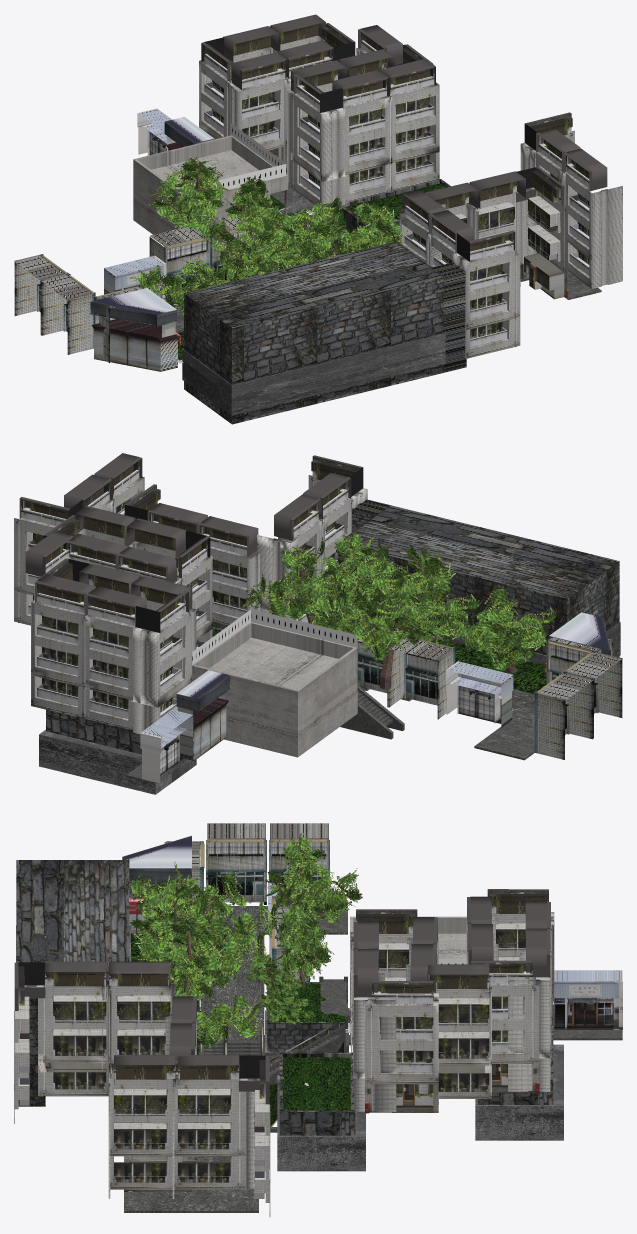
The model's file is background_ctrlJ.fbx.
3 views of the same model, one above another, from view 1: azimuth 30°, elevation 25°; view 2: azimuth 150°, elevation 25°; view 3: azimuth 270°, elevation 25° (orthographic). The views are drawn at different scales.
Visible parts, largest first — view 1: object 75, c83d86f3dd59d547cc310ce502d8f9ac.004_c83d86f3dd59d547cc310ce, c83d86f3dd59d547cc310ce502d8f9ac.005_c83d86f3dd59d547cc310ce, c83d86f3dd59d547cc310ce502d8f9ac.002_c83d86f3dd59d547cc310ce, object 122, c83d86f3dd59d547cc310ce502d8f9ac.001_c83d86f3dd59d547cc310ce, c83d86f3dd59d547cc310ce502d8f9ac.003_c83d86f3dd59d547cc310ce, object 79, object 54, 3-Photoroom.001_3-Photoroom_0, object 131, object 7 (+15 smaller); view 2: c83d86f3dd59d547cc310ce502d8f9ac.005_c83d86f3dd59d547cc310ce, object 75, object 54, object 122, c83d86f3dd59d547cc310ce502d8f9ac.004_c83d86f3dd59d547cc310ce, c83d86f3dd59d547cc310ce502d8f9ac.002_c83d86f3dd59d547cc310ce, c83d86f3dd59d547cc310ce502d8f9ac.001_c83d86f3dd59d547cc310ce, c83d86f3dd59d547cc310ce502d8f9ac.003_c83d86f3dd59d547cc310ce, object 82, object 131, object 5, 3-Photoroom.003_3-Photoroom_0 (+22 smaller); view 3: c83d86f3dd59d547cc310ce502d8f9ac.003_c83d86f3dd59d547cc310ce, c83d86f3dd59d547cc310ce502d8f9ac.002_c83d86f3dd59d547cc310ce, c83d86f3dd59d547cc310ce502d8f9ac.004_c83d86f3dd59d547cc310ce, c83d86f3dd59d547cc310ce502d8f9ac.005_c83d86f3dd59d547cc310ce, object 122, object 75, c83d86f3dd59d547cc310ce502d8f9ac.006_c83d86f3dd59d547cc310ce, object 29, object 131, 22 (1).002_22 (1)_0, object 82, object 28 (+18 smaller).
Part boxes in pixels (x1,y1,x2,y2): object 75: [184, 241, 466, 424]; c83d86f3dd59d547cc310ce502d8f9ac.004_c83d86f3dd59d547cc310ce: [287, 44, 439, 205]; c83d86f3dd59d547cc310ce502d8f9ac.005_c83d86f3dd59d547cc310ce: [199, 14, 355, 170]; c83d86f3dd59d547cc310ce502d8f9ac.002_c83d86f3dd59d547cc310ce: [399, 190, 520, 358]; object 122: [127, 196, 407, 315]; c83d86f3dd59d547cc310ce502d8f9ac.001_c83d86f3dd59d547cc310ce: [424, 166, 568, 299]; c83d86f3dd59d547cc310ce502d8f9ac.003_c83d86f3dd59d547cc310ce: [520, 112, 622, 288]; object 79: [182, 333, 445, 415]; object 54: [133, 135, 288, 235]; 3-Photoroom.001_3-Photoroom_0: [90, 288, 180, 371]; object 131: [141, 157, 230, 244]; object 7: [41, 273, 95, 354]; c83d86f3dd59d547cc310ce502d8f9ac.005_c83d86f3dd59d547cc310ce: [31, 558, 196, 733]; object 75: [337, 499, 619, 657]; object 54: [192, 622, 357, 757]; object 122: [238, 531, 556, 671]; c83d86f3dd59d547cc310ce502d8f9ac.004_c83d86f3dd59d547cc310ce: [43, 506, 212, 648]; c83d86f3dd59d547cc310ce502d8f9ac.002_c83d86f3dd59d547cc310ce: [247, 455, 367, 622]; c83d86f3dd59d547cc310ce502d8f9ac.001_c83d86f3dd59d547cc310ce: [124, 484, 260, 628]; c83d86f3dd59d547cc310ce502d8f9ac.003_c83d86f3dd59d547cc310ce: [14, 453, 144, 625]; object 82: [39, 729, 196, 794]; object 131: [350, 568, 442, 663]; object 5: [534, 672, 592, 759]; 3-Photoroom.003_3-Photoroom_0: [176, 670, 230, 760]; c83d86f3dd59d547cc310ce502d8f9ac.003_c83d86f3dd59d547cc310ce: [108, 1055, 270, 1216]; c83d86f3dd59d547cc310ce502d8f9ac.002_c83d86f3dd59d547cc310ce: [14, 961, 175, 1123]; c83d86f3dd59d547cc310ce502d8f9ac.004_c83d86f3dd59d547cc310ce: [350, 909, 438, 1113]; c83d86f3dd59d547cc310ce502d8f9ac.005_c83d86f3dd59d547cc310ce: [466, 889, 554, 1093]; object 122: [119, 871, 269, 1050]; object 75: [16, 860, 129, 1106]; c83d86f3dd59d547cc310ce502d8f9ac.006_c83d86f3dd59d547cc310ce: [427, 964, 491, 1098]; object 29: [245, 900, 334, 1022]; object 131: [259, 833, 362, 942]; 22 (1).002_22 (1)_0: [554, 970, 622, 1029]; object 82: [475, 1044, 563, 1140]; object 28: [200, 906, 347, 1040].
Size of the model in its own units: 4531 by 1408 by 3809.
